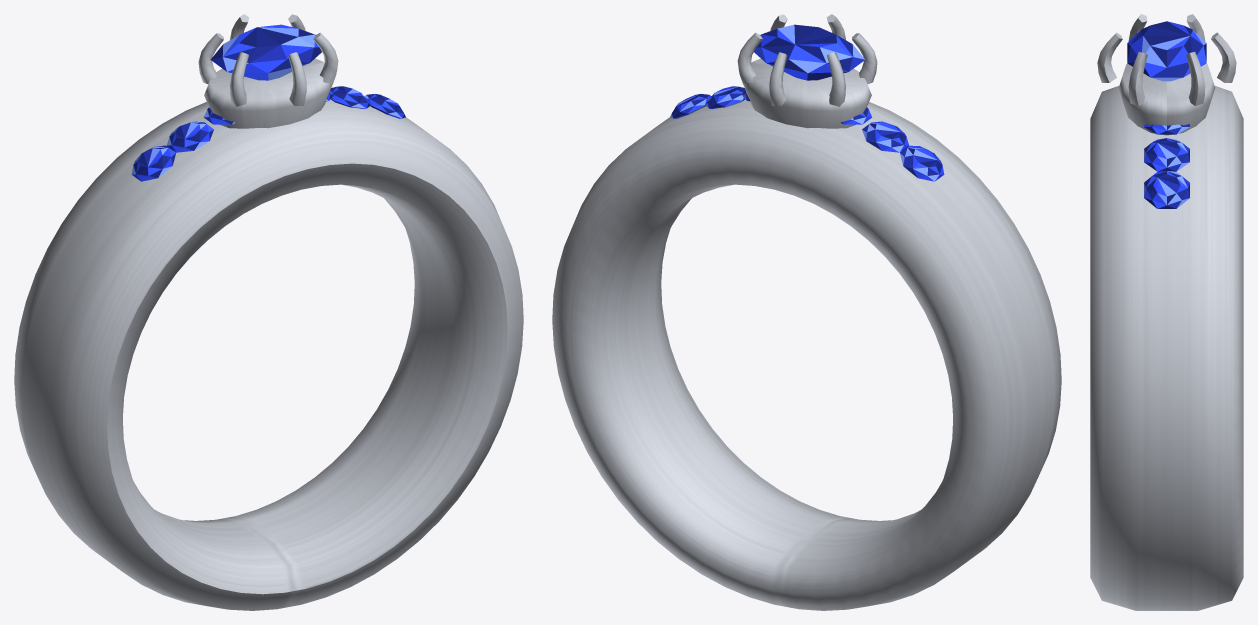
Rendered from SapphireBand.glb.
3 views of the same model, side by side, from view 1: azimuth 30°, elevation 25°; view 2: azimuth 150°, elevation 25°; view 3: azimuth 270°, elevation 25° (orthographic).
Visible parts, largest first — view 1: SapphireBand; view 2: SapphireBand; view 3: SapphireBand.
Boxes of the visible parts, x1,y1,x2,y2 form: SapphireBand: [14, 14, 523, 610]; SapphireBand: [552, 14, 1061, 610]; SapphireBand: [1090, 14, 1243, 610].
Size of the model in its own units: 0.5551 by 0.6371 by 0.16.
Materials: 1 (1 with a texture image).
